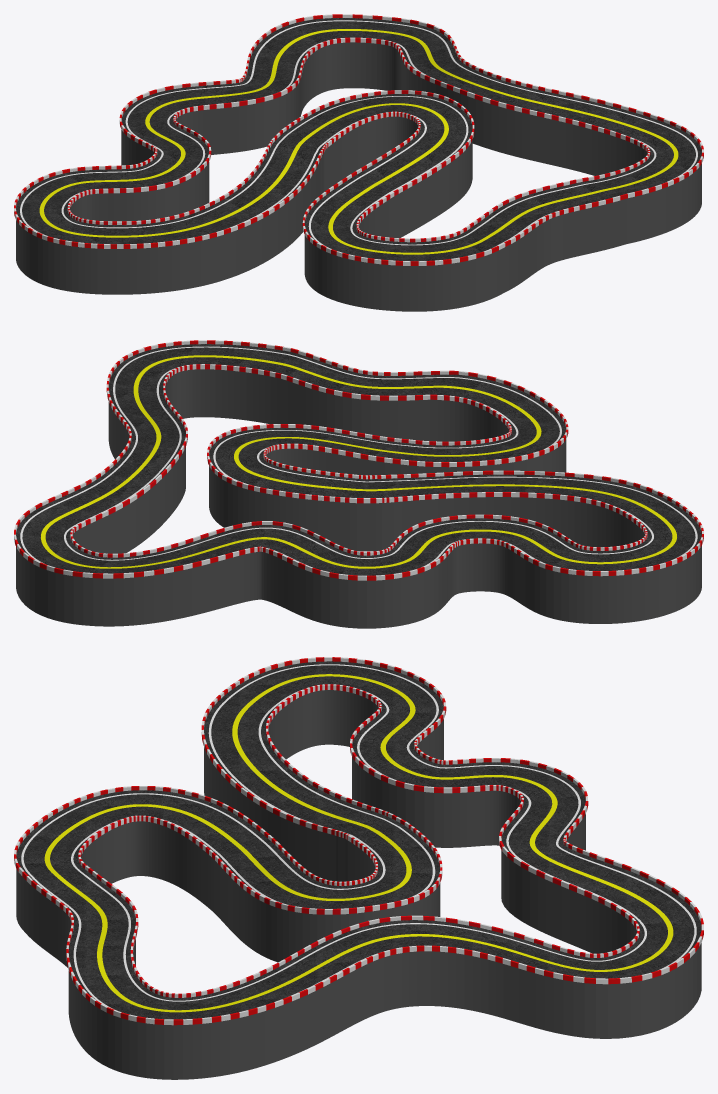
File: june track 1.fbx
The picture shows the model from 3 angles, top to bottom: view 1: azimuth 30°, elevation 25°; view 2: azimuth 150°, elevation 25°; view 3: azimuth 270°, elevation 25°; orthographic projection. The views are drawn at different scales.
Parts seen in each view (by area): view 1: NurbsCurve, NurbsCurve.004, NurbsCurve.002; view 2: NurbsCurve, NurbsCurve.004, NurbsCurve.002; view 3: NurbsCurve, NurbsCurve.004, NurbsCurve.002.
Part boxes in pixels (left/top/right/bottom): NurbsCurve: left=16, top=18, right=701, bottom=311; NurbsCurve.004: left=14, top=14, right=703, bottom=265; NurbsCurve.002: left=67, top=37, right=650, bottom=242; NurbsCurve: left=16, top=344, right=701, bottom=628; NurbsCurve.004: left=14, top=340, right=703, bottom=580; NurbsCurve.002: left=70, top=364, right=647, bottom=557; NurbsCurve: left=16, top=661, right=701, bottom=1079; NurbsCurve.004: left=14, top=657, right=703, bottom=1025; NurbsCurve.002: left=78, top=684, right=639, bottom=997.
Bounding box in the file's own units: 3765 × 436 × 3109.
